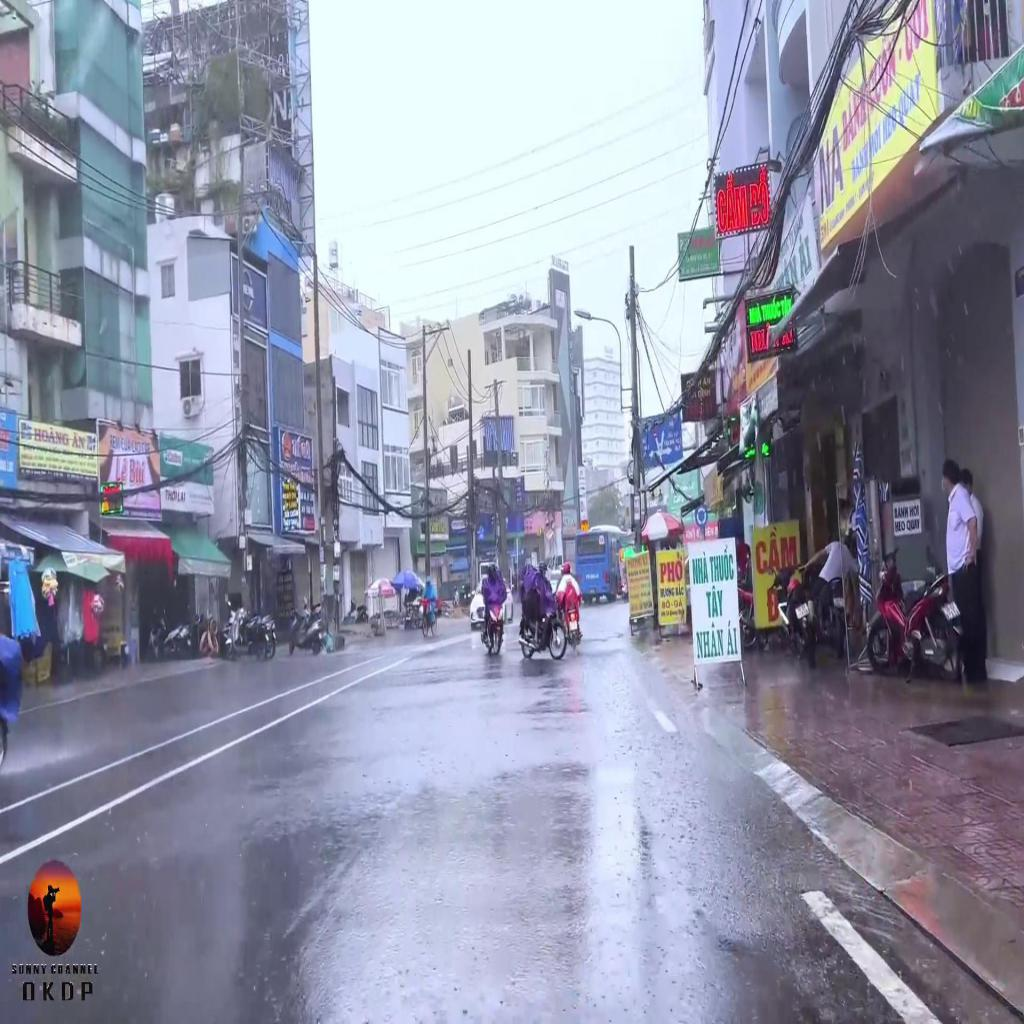khac: (640, 412, 682, 468)
noi_giao_nhau_chay_theo_vong: (694, 504, 708, 528)
